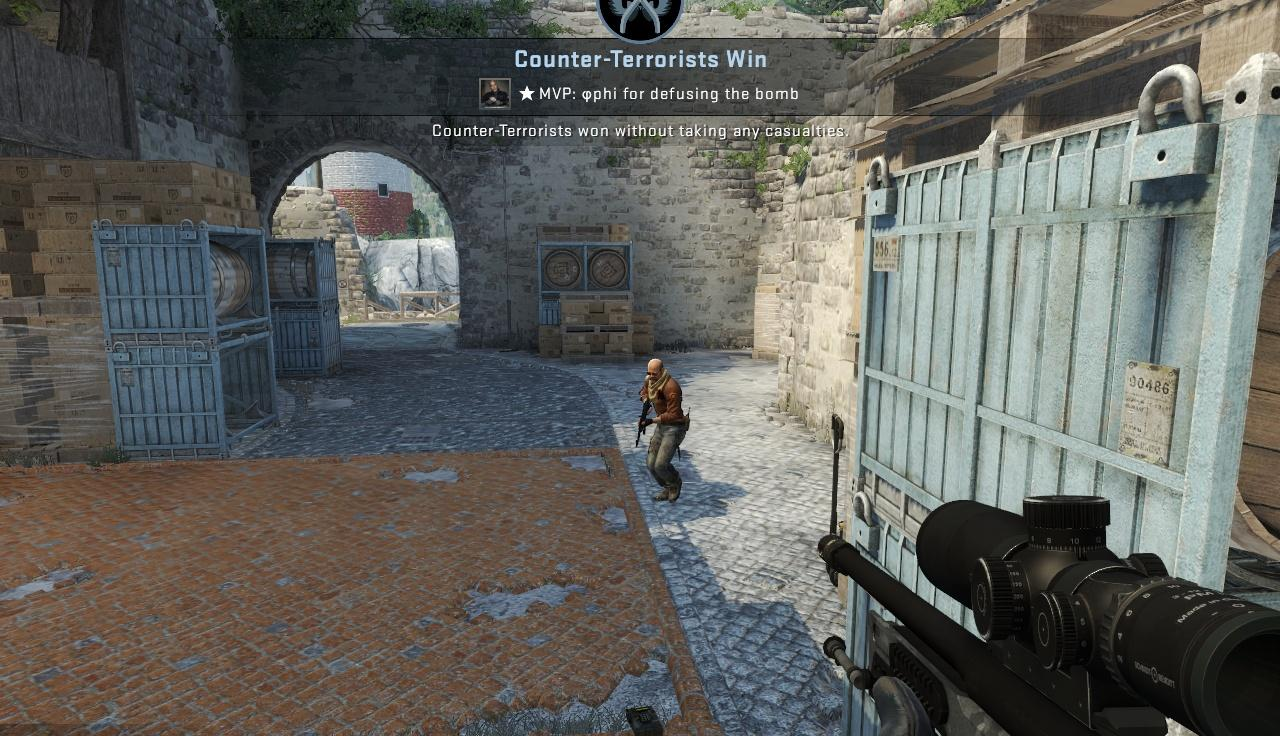rifle: (822, 497, 1280, 736)
tt: (647, 356, 693, 500)
tthead: (647, 358, 665, 383)
